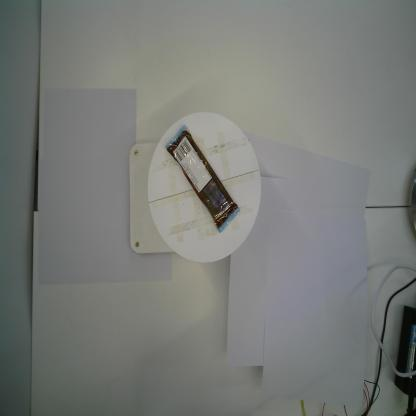Chocolate: (164, 122, 241, 235)
